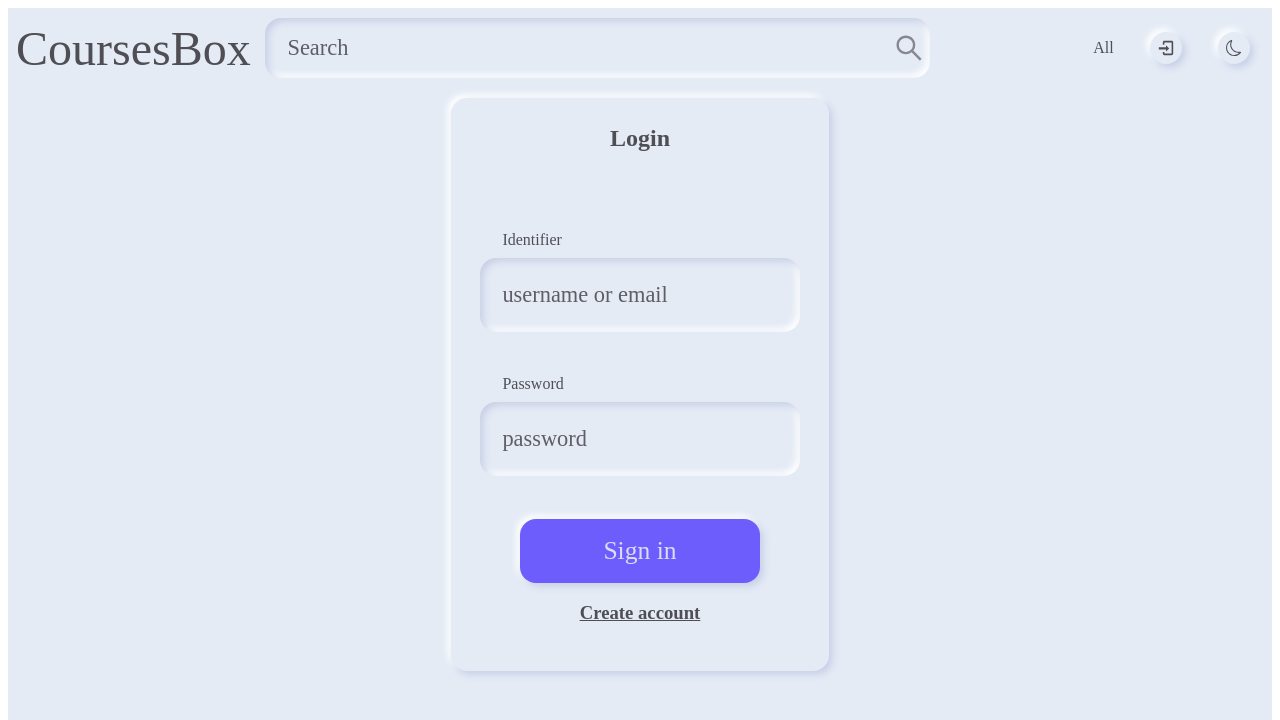
Test: Login page › should have server validation
In the field labelled "Identifier": (640, 295) [480,258,800,332], type "test@test.test"
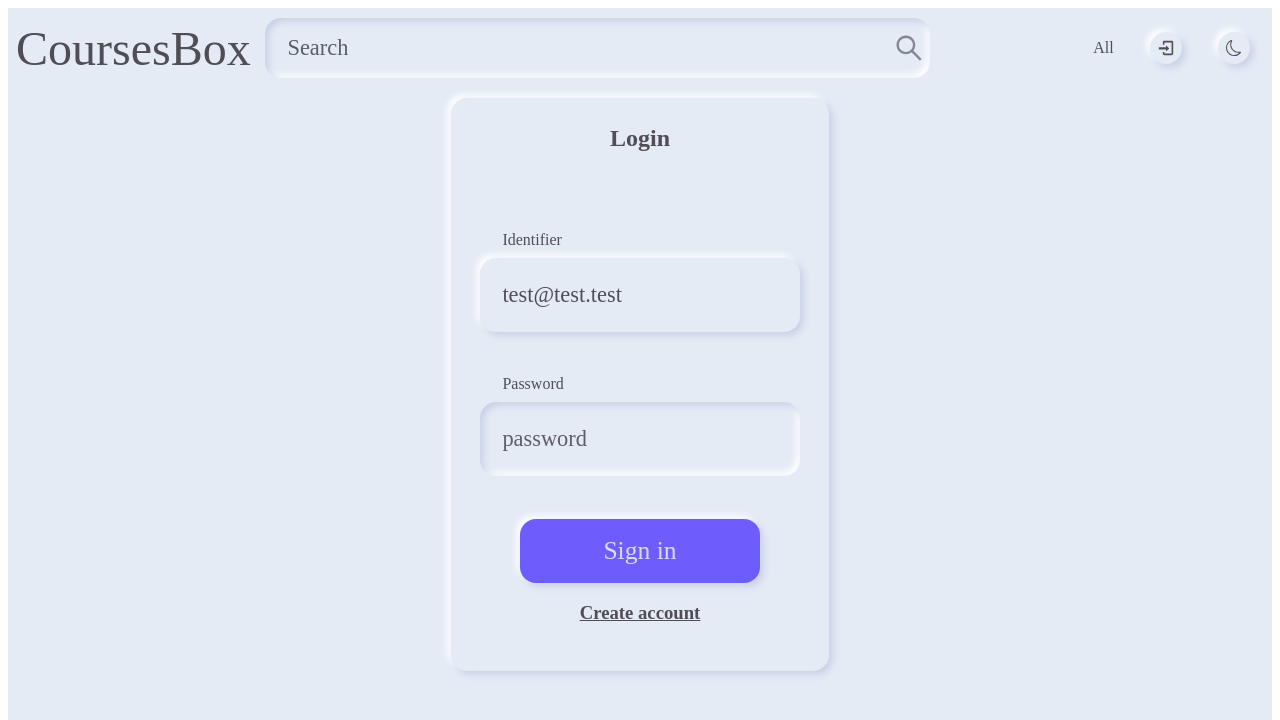
In the field labelled "Password": (640, 439) [480,402,800,476], type "testtesttest"
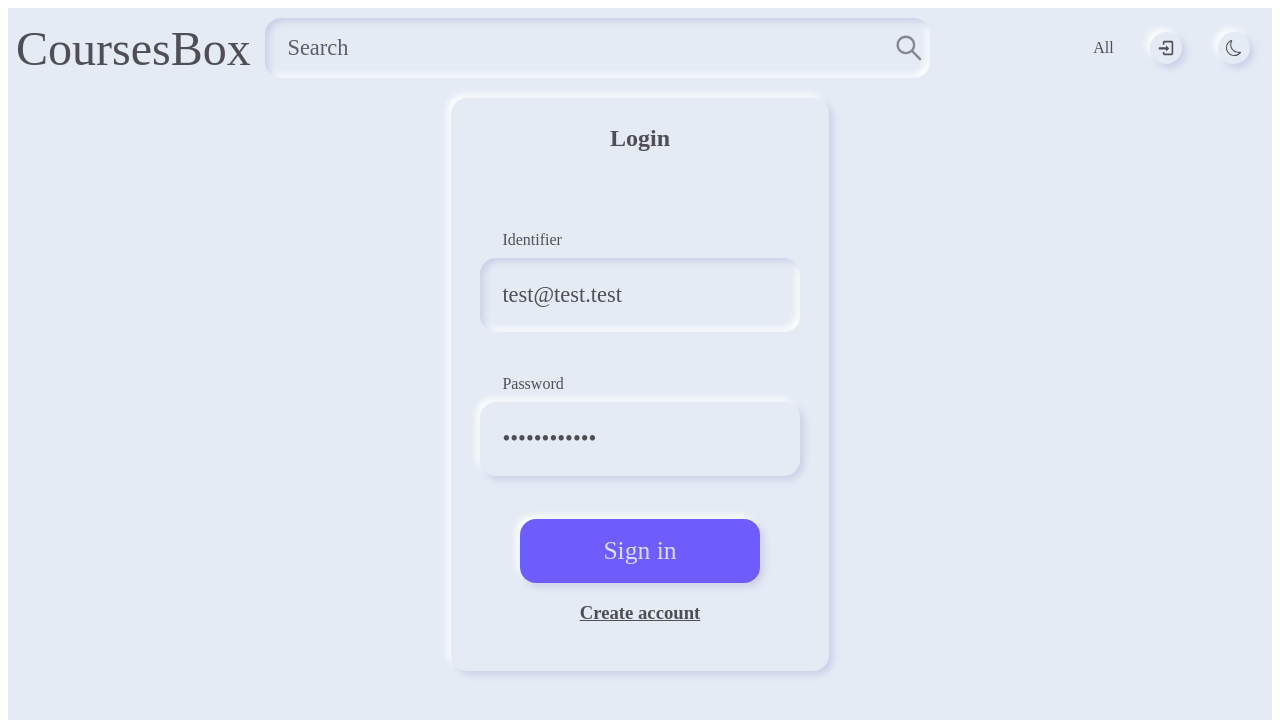
Click the button "Sign in": (640, 551) [520,519,760,583]
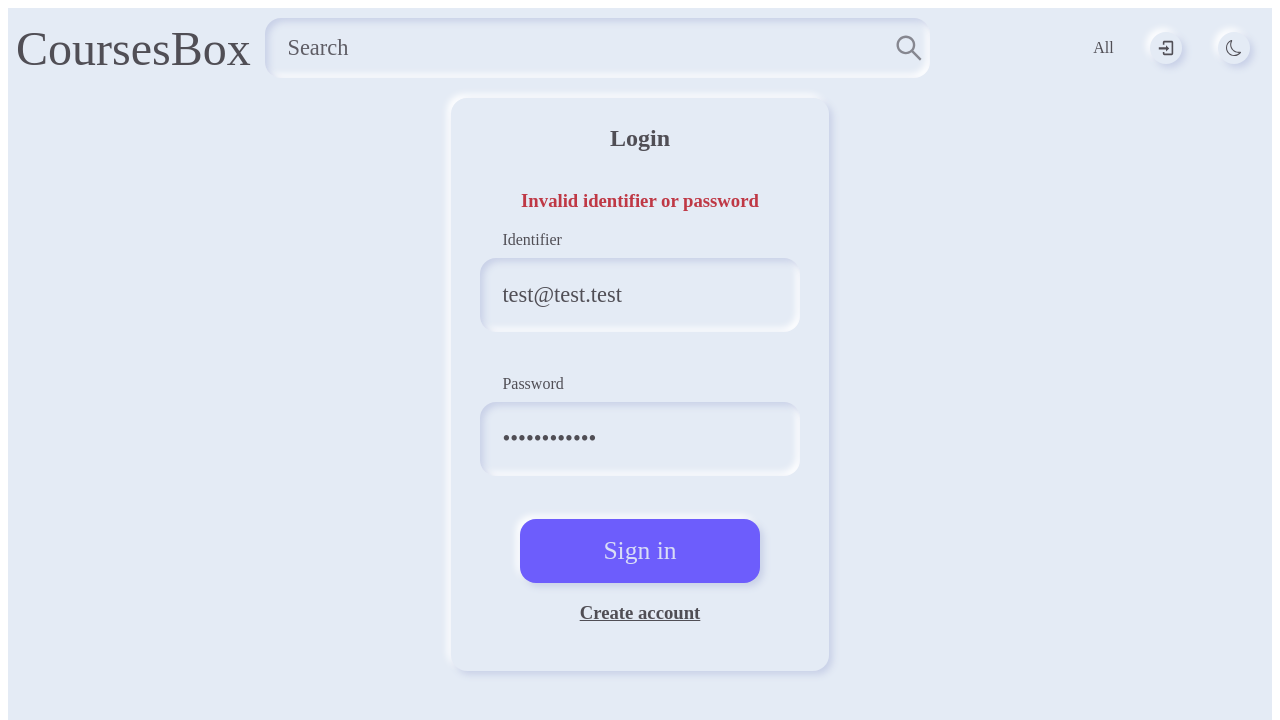
Now the text "Invalid identifier or password" is shown, box [521,190,759,211]
